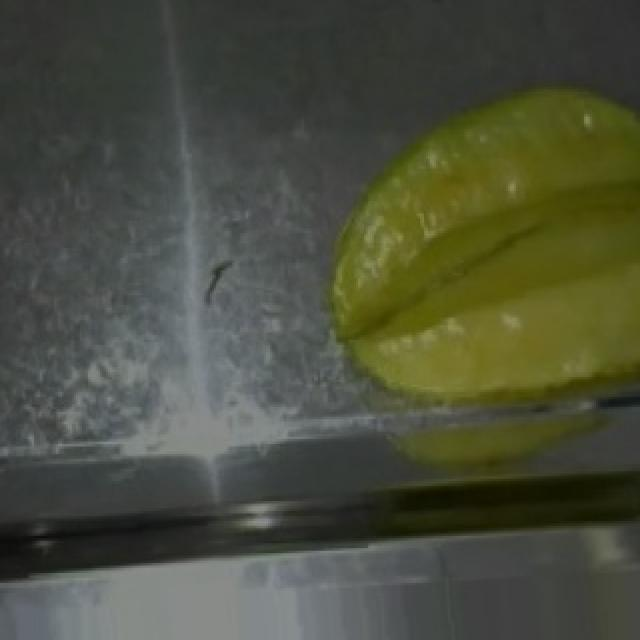fruit: (288, 42, 640, 466)
